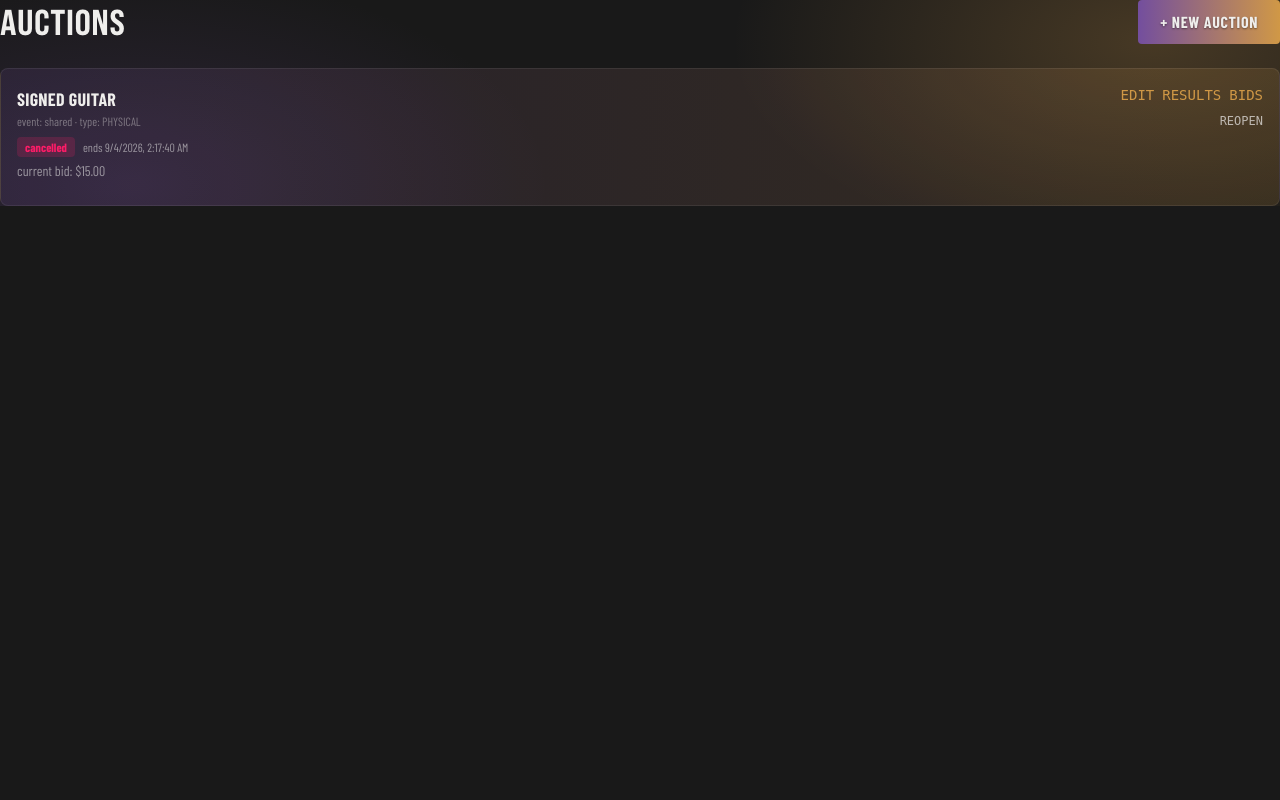
Test: ModeratorAuctions › shows all bids in the bids modal
Expected: the heading "Signed Guitar" is shown, [17,88,116,110]
What coordinates should you click on to do the following:
click the button "bids"
I would click on:
 (1246, 95)
Its box is [1229,85,1263,105].
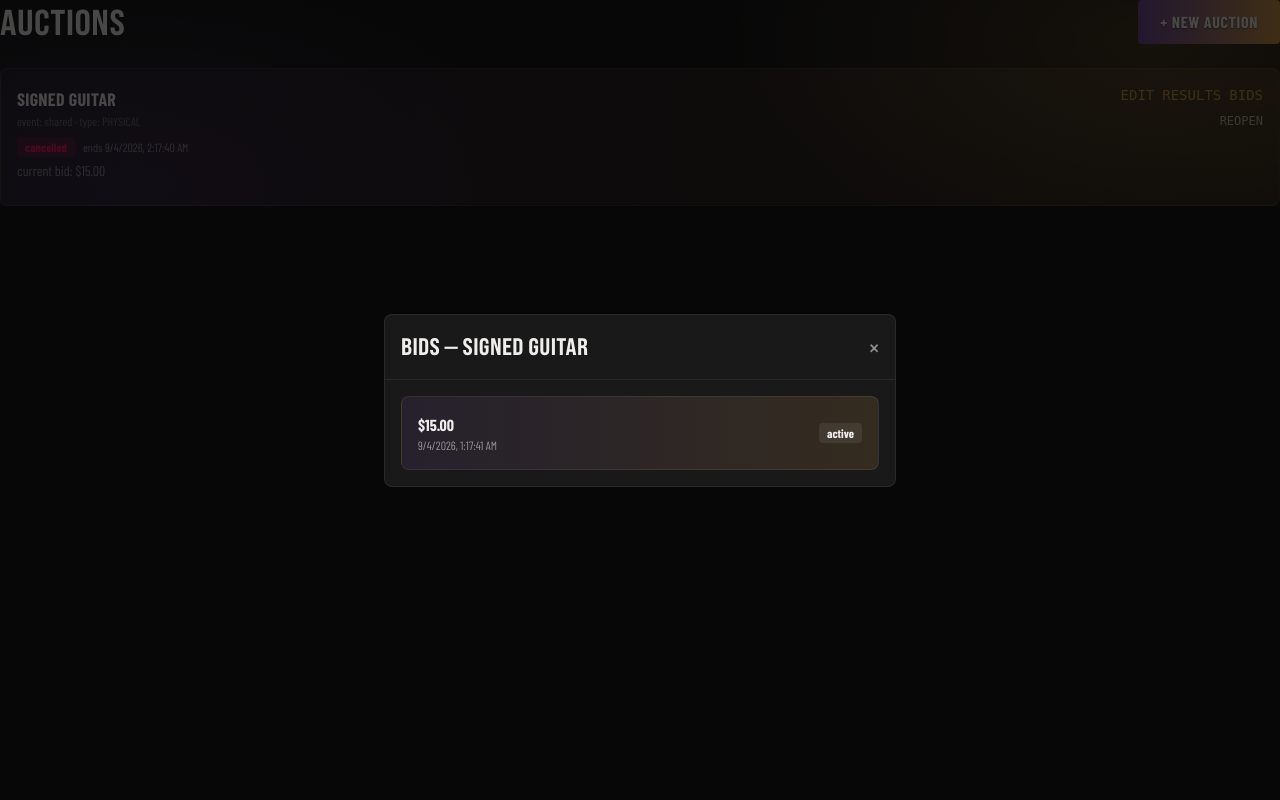
Now the text "$15.00" is shown, box [418,414,454,434]
